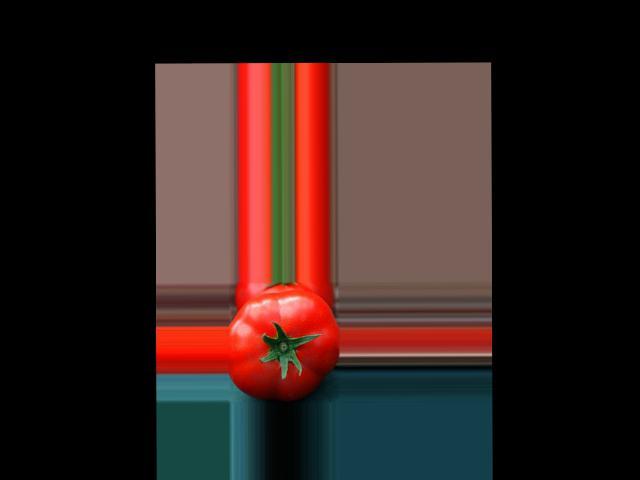tomato: (228, 289, 340, 401)
